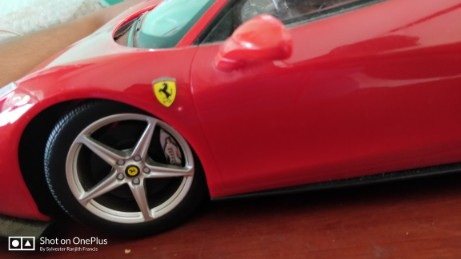unaligned_wheel: (32, 105, 209, 232)
